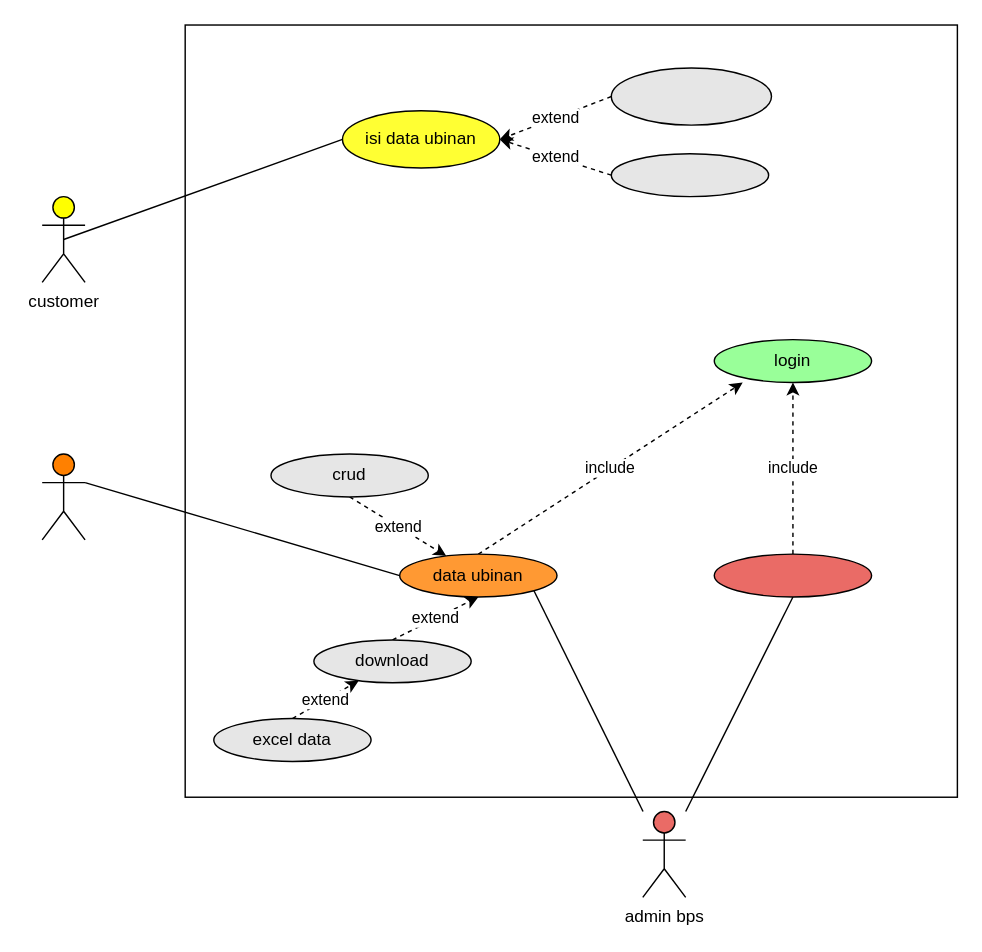
The diagram is 982 pixels wide and 952 high, and some of its shapes have lost their labels. Each missing label, with the box of its shape:
admin mdl: (41, 453, 85, 540)
crud akun: (713, 553, 872, 597)
jadwal panen: (610, 152, 769, 197)
upload bukti ubinan: (610, 66, 771, 125)
